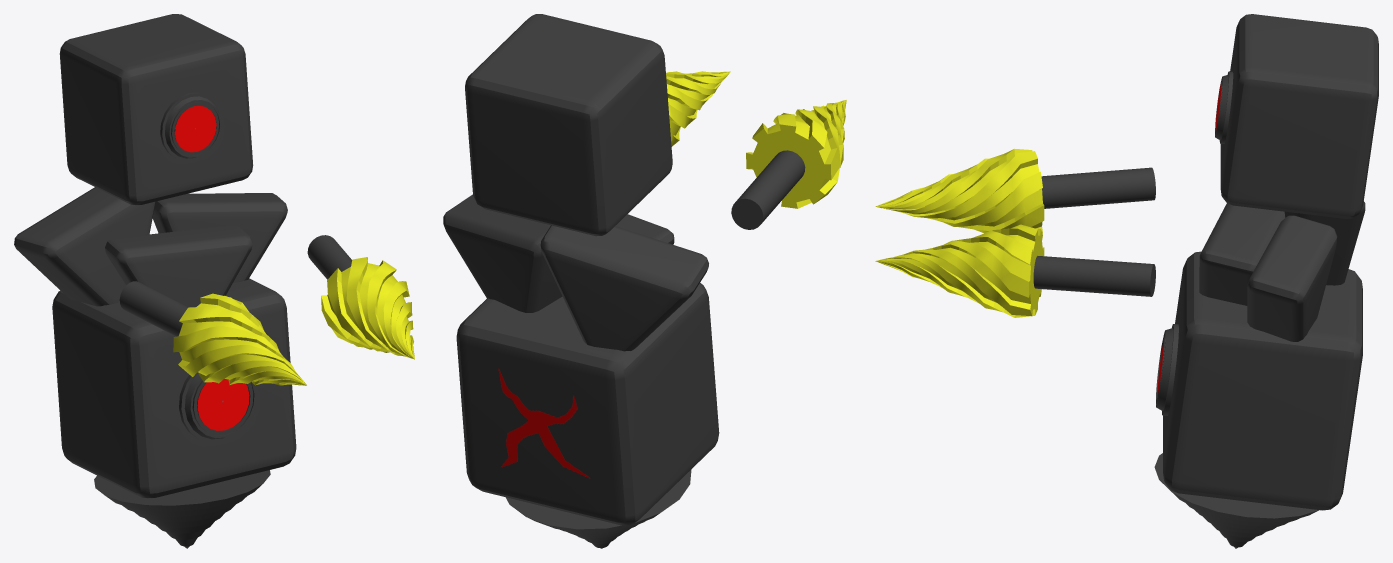
File: Boss7.fbx
The picture shows the model from 3 angles, left to right: view 1: azimuth 30°, elevation 25°; view 2: azimuth 150°, elevation 25°; view 3: azimuth 270°, elevation 25°; orthographic projection. The views are drawn at different scales.
Visible parts, largest first — view 1: polySurface1; view 2: polySurface1; view 3: polySurface1.
Part boxes in pixels (x1,y1,x2,y2): polySurface1: (14, 14, 414, 548); polySurface1: (443, 14, 846, 548); polySurface1: (875, 14, 1378, 548).
Size of the model in its own units: 30 by 56.9 by 51.18.
